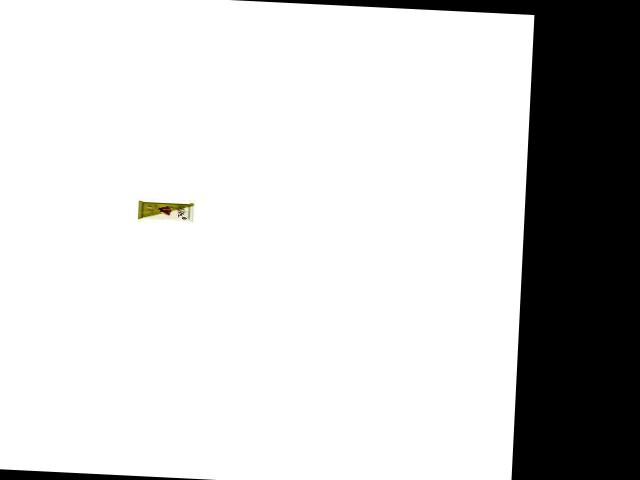chocolate: (134, 195, 197, 226)
